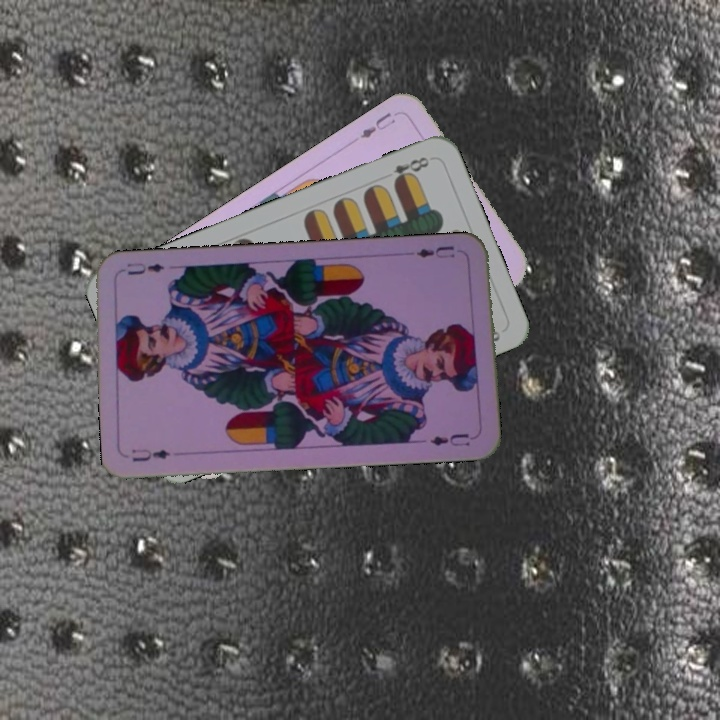E8: (389, 152, 432, 187)
EU: (356, 108, 399, 141), (128, 444, 173, 464), (412, 242, 457, 261)
